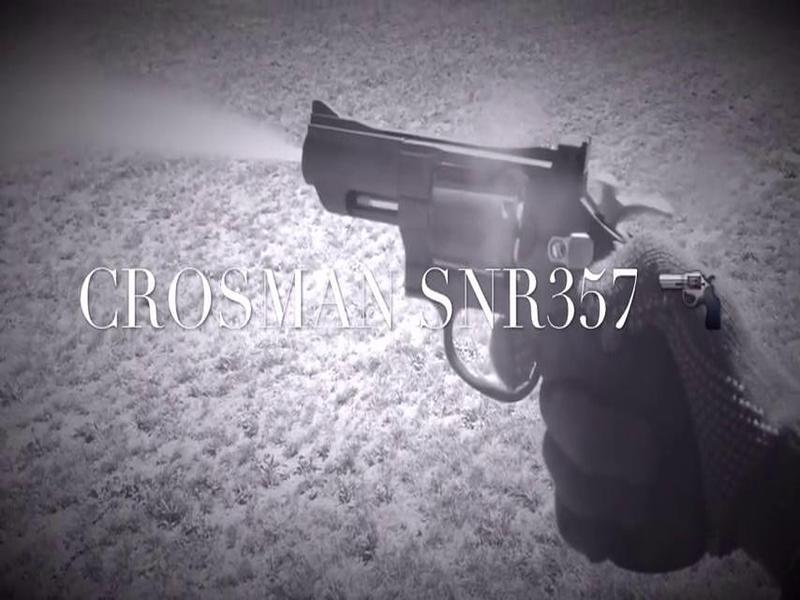Revolver: (305, 85, 714, 552)
